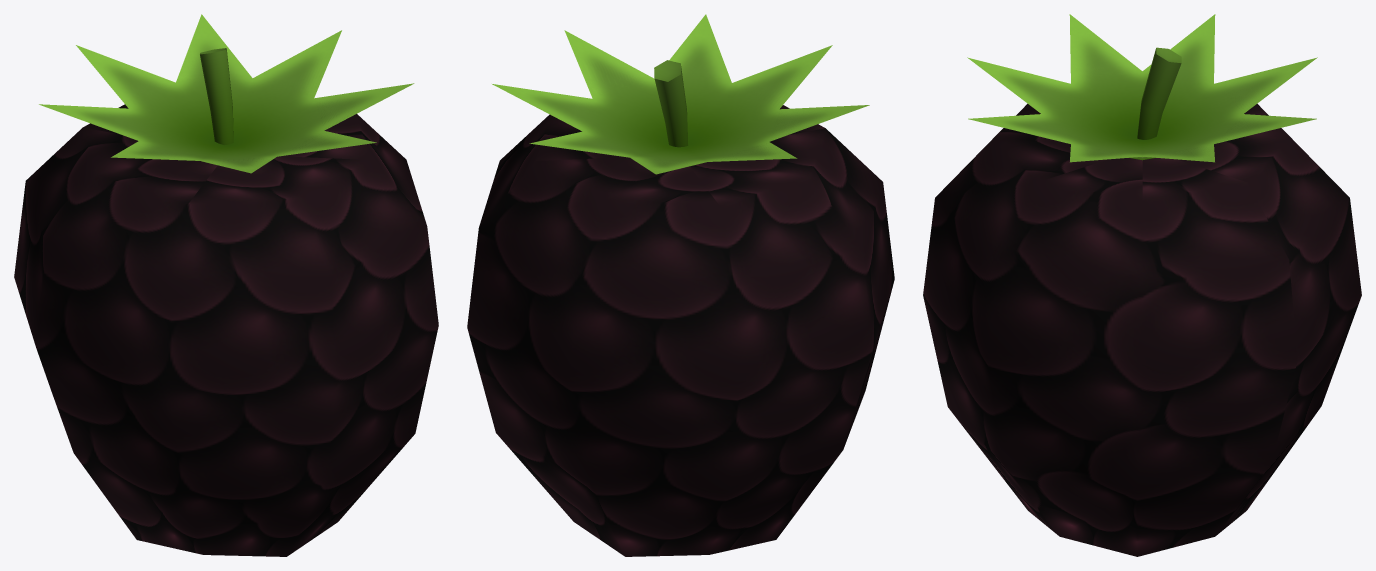
Rendered from blackberry.fbx.
3 views of the same model, side by side, from view 1: azimuth 30°, elevation 25°; view 2: azimuth 150°, elevation 25°; view 3: azimuth 270°, elevation 25° (orthographic).
Visible parts, largest first — view 1: blackberry_mesh; view 2: blackberry_mesh; view 3: blackberry_mesh.
Boxes of the visible parts, x1,y1,x2,y2 form: blackberry_mesh: (14, 14, 438, 556); blackberry_mesh: (467, 14, 894, 556); blackberry_mesh: (923, 14, 1361, 556).
Bounding box in the file's own units: 1.28 × 1.6 × 1.28.
